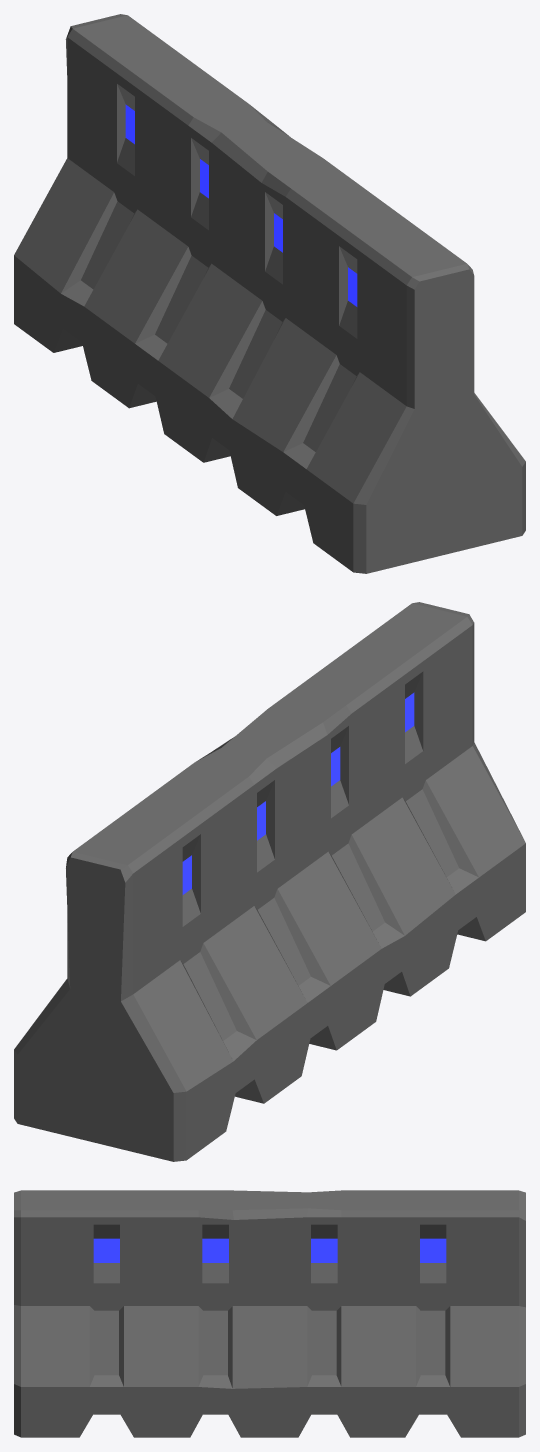
The model's file is wallC.fbx.
3 renders of one model, top to bottom at view 1: azimuth 30°, elevation 25°; view 2: azimuth 150°, elevation 25°; view 3: azimuth 270°, elevation 25°, orthographic. The views are drawn at different scales.
Visible parts, largest first — view 1: SM_Prop_Barrier_Plastic_02; view 2: SM_Prop_Barrier_Plastic_02; view 3: SM_Prop_Barrier_Plastic_02.
Part boxes in pixels (box(x1,y1,x2,y2)): SM_Prop_Barrier_Plastic_02: box(14, 14, 525, 573); SM_Prop_Barrier_Plastic_02: box(14, 602, 525, 1161); SM_Prop_Barrier_Plastic_02: box(14, 1190, 525, 1437).
Size of the model in its own units: 65.43 by 102 by 229.
